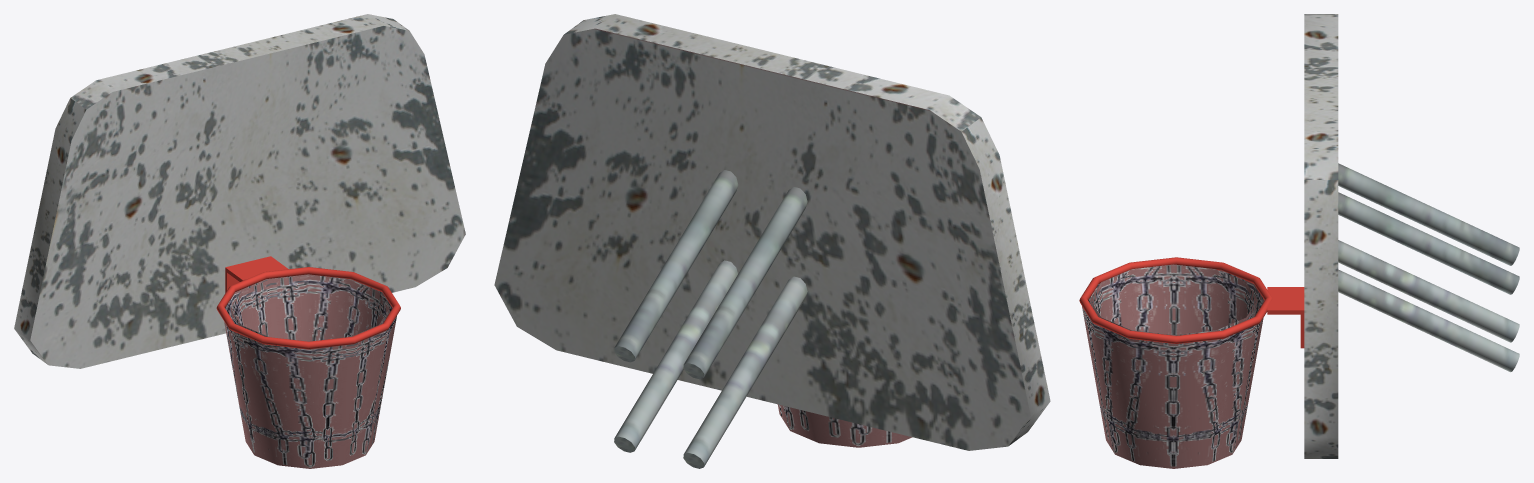
Rendered from BasketballHoop2.fbx.
The picture shows the model from 3 angles, left to right: view 1: azimuth 30°, elevation 25°; view 2: azimuth 150°, elevation 25°; view 3: azimuth 270°, elevation 25°; orthographic projection. The views are drawn at different scales.
Visible parts, largest first — view 1: BackBoard, Net, Hoop; view 2: BackBoard, Net; view 3: BackBoard, Net, Hoop.
Part boxes in pixels (x1=…): BackBoard: x1=14, y1=14, x2=465, y2=368; Net: x1=224, y1=274, x2=396, y2=468; Hoop: x1=216, y1=256, x2=400, y2=349; BackBoard: x1=494, y1=14, x2=1050, y2=468; Net: x1=777, y1=404, x2=912, y2=447; BackBoard: x1=1304, y1=14, x2=1519, y2=458; Net: x1=1082, y1=264, x2=1264, y2=468; Hoop: x1=1079, y1=257, x2=1304, y2=348.
Bounding box in the file's own units: 5.12 × 3.79 × 4.26.
